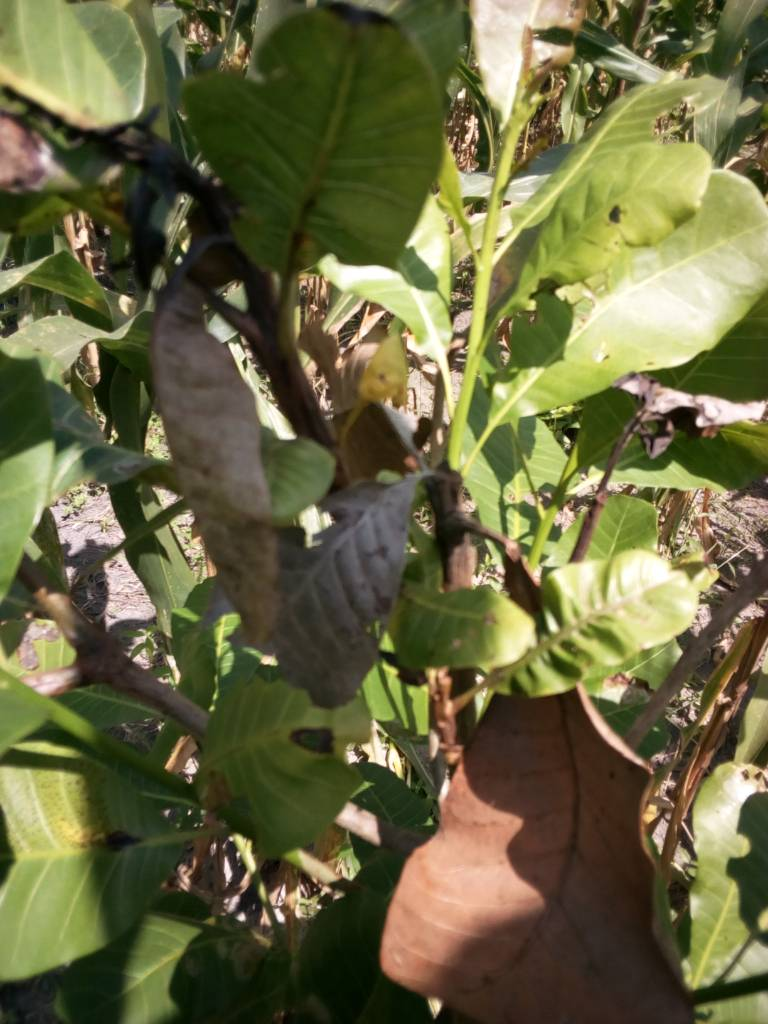Dessèchement des bourgeons: (360, 410, 509, 581)
